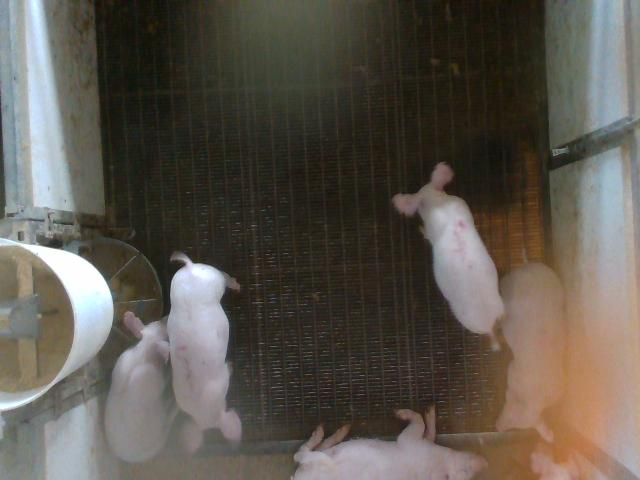pig-5: (392, 162, 504, 347)
